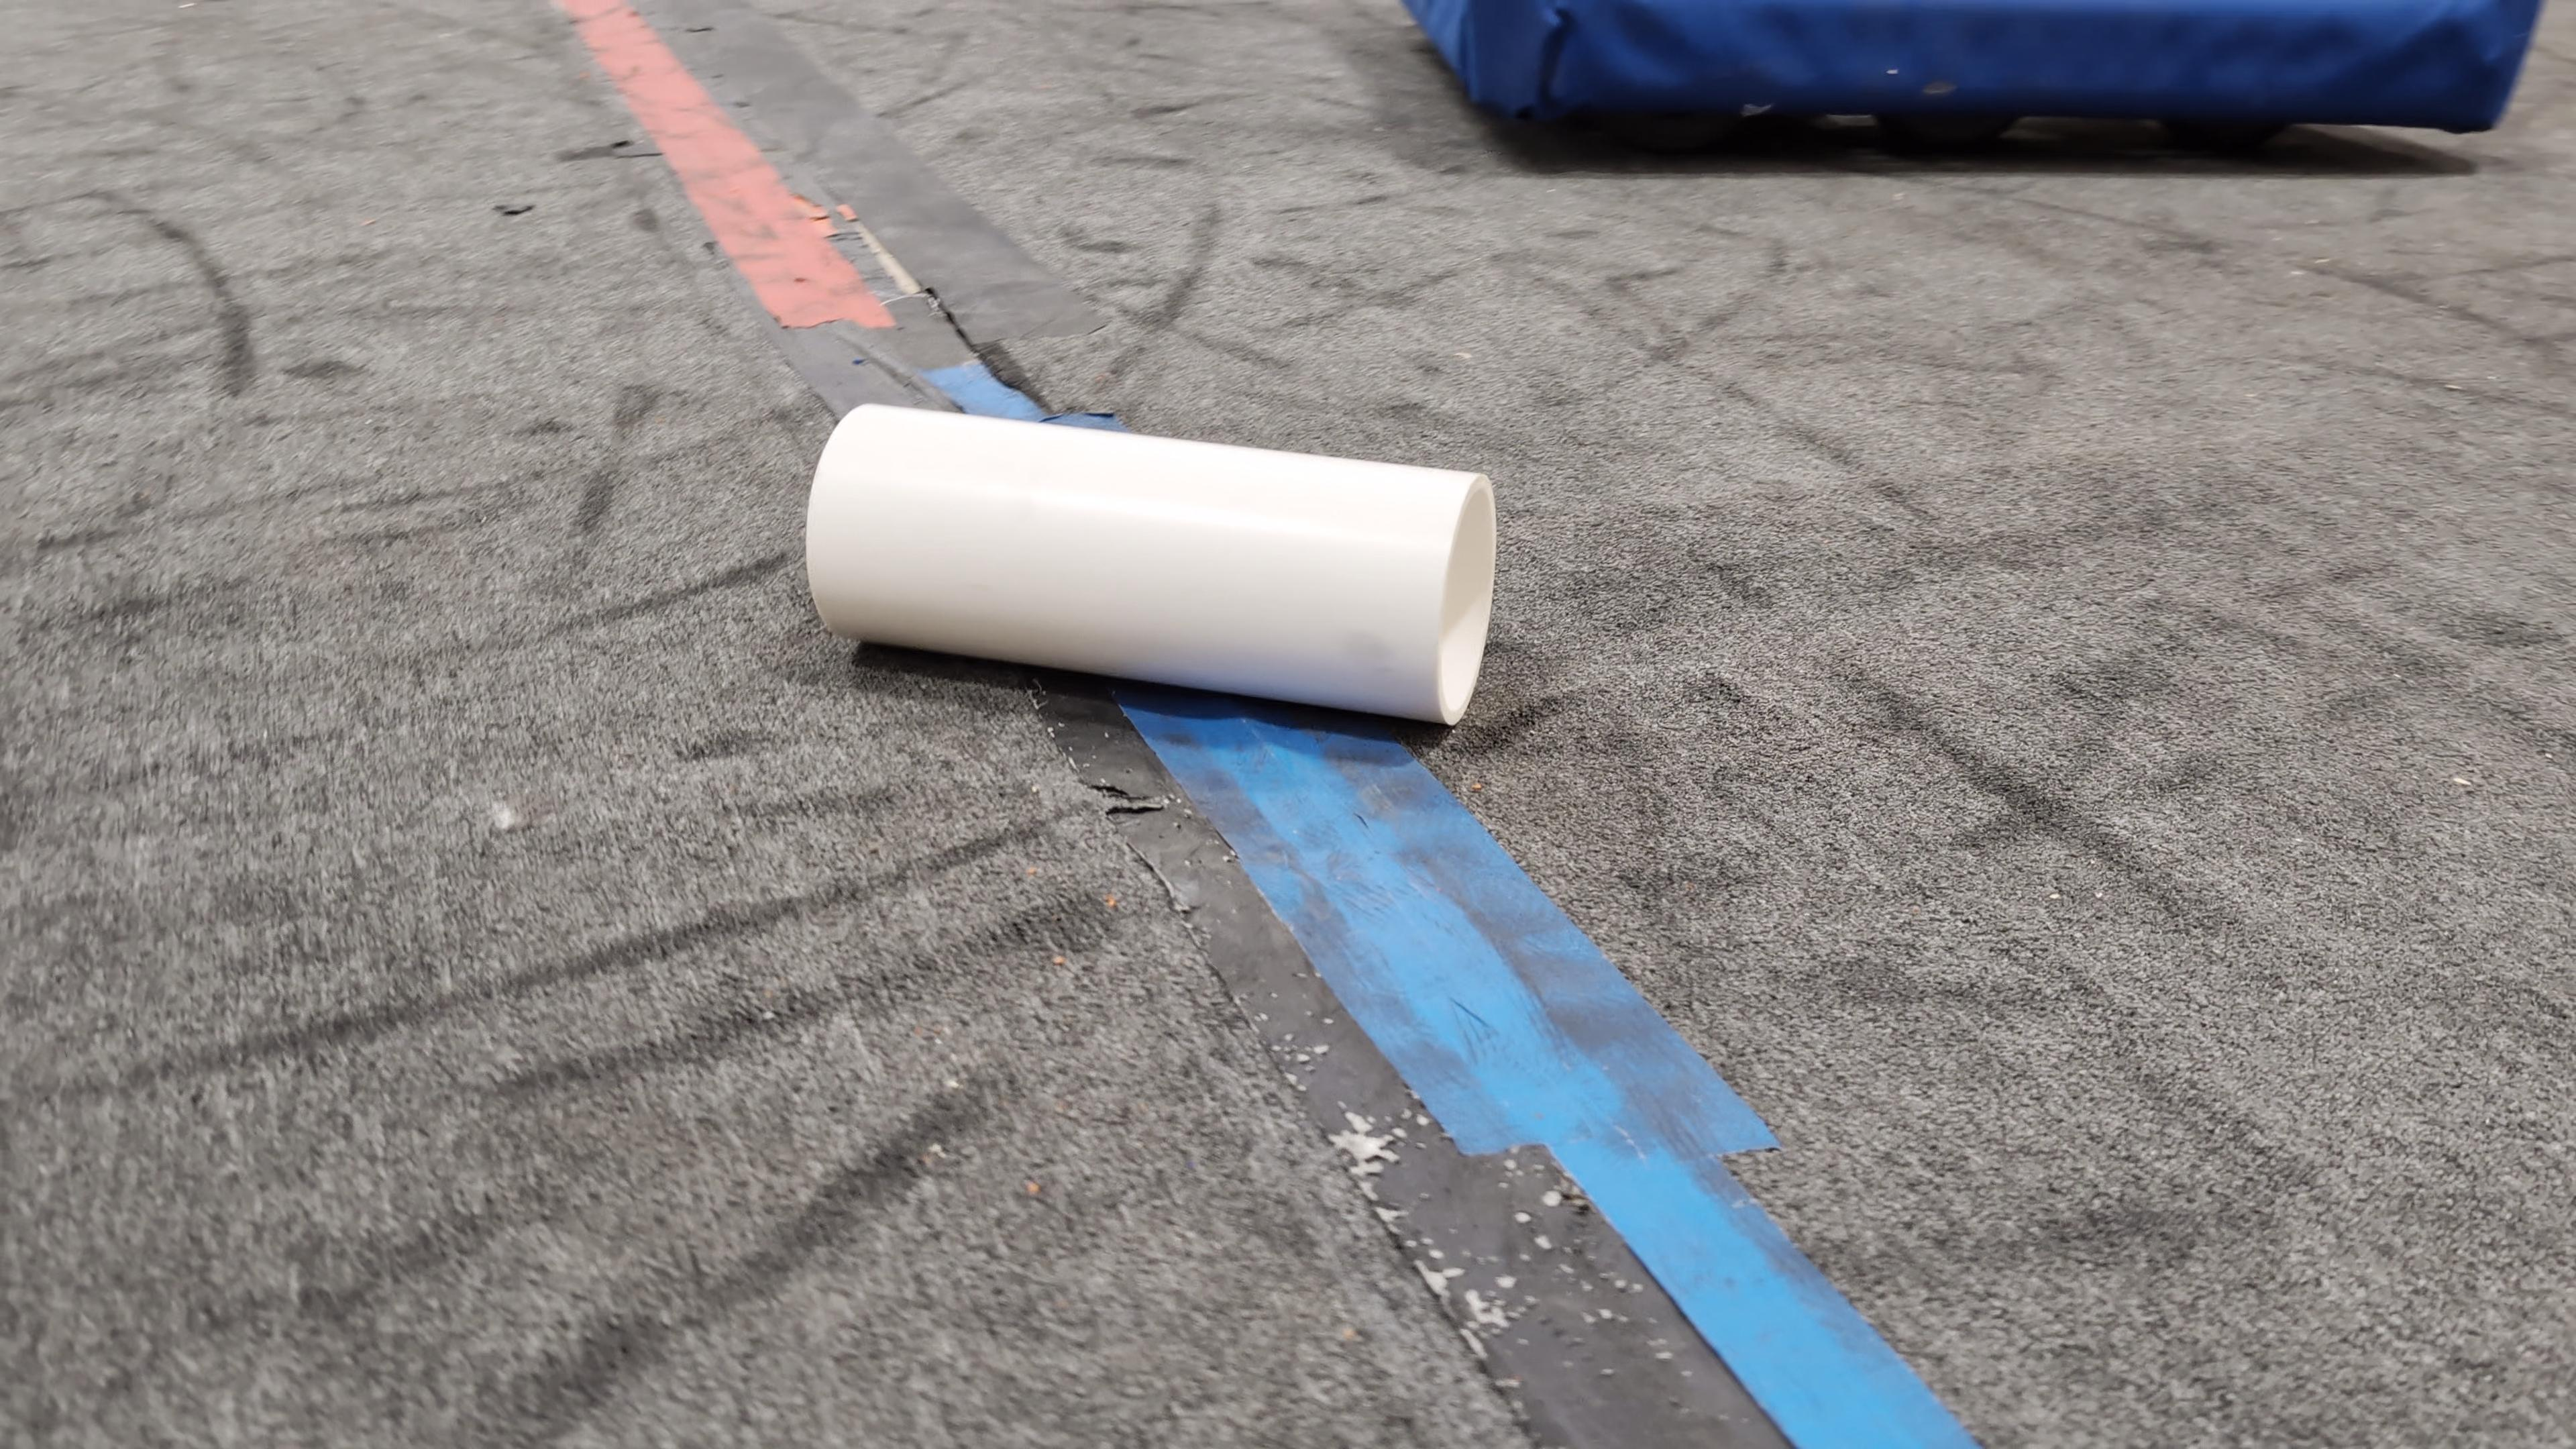coral: (801, 400, 1502, 724)
